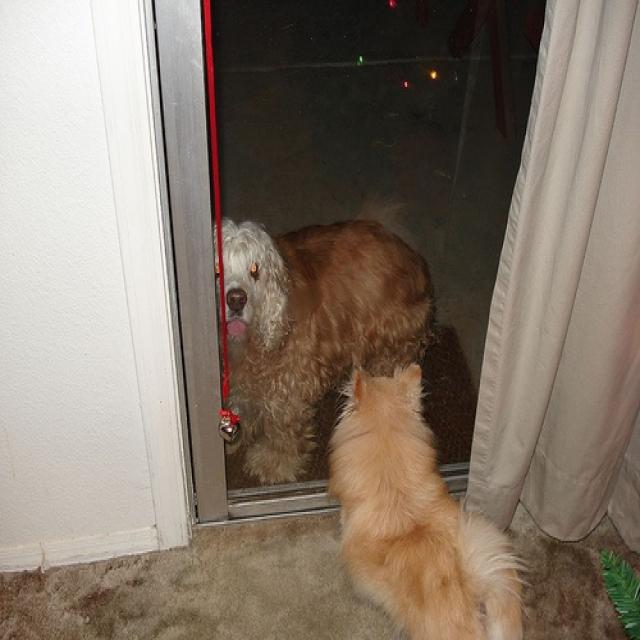dog: (215, 217, 438, 488), (330, 362, 522, 638)
